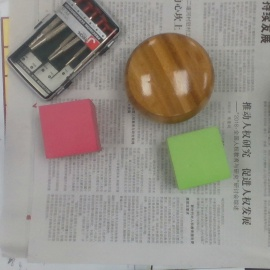chess: (124, 33, 213, 124)
